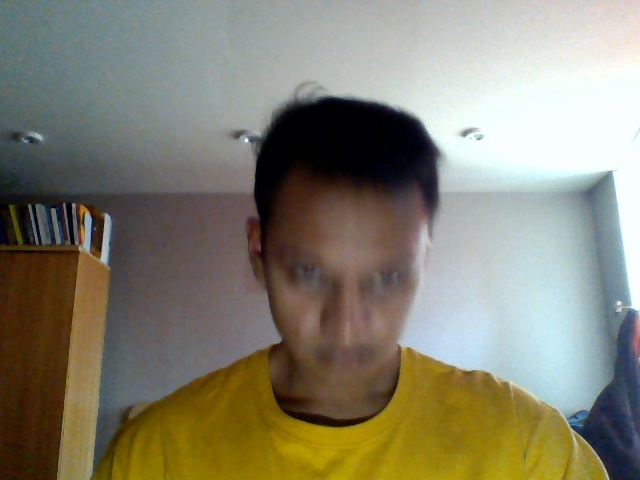no_mask: (263, 275, 413, 371)
